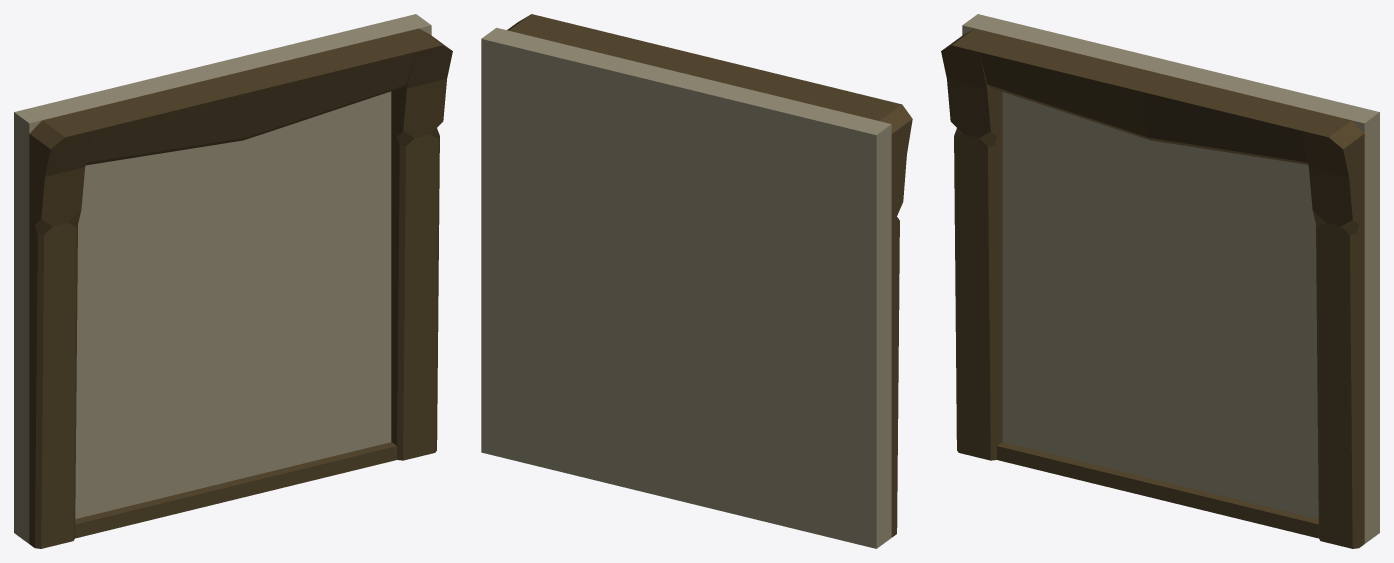
File: fantasy_wall_1.fbx
The picture shows the model from 3 angles, left to right: view 1: azimuth 30°, elevation 25°; view 2: azimuth 150°, elevation 25°; view 3: azimuth 330°, elevation 25°; orthographic projection.
Visible parts, largest first — view 1: Cube.014; view 2: Cube.014; view 3: Cube.014.
Boxes of the visible parts, bbox=[...] form: Cube.014: bbox=[14, 14, 452, 548]; Cube.014: bbox=[481, 14, 912, 548]; Cube.014: bbox=[941, 14, 1379, 548].
Bounding box in the file's own units: 300 × 300 × 50.
